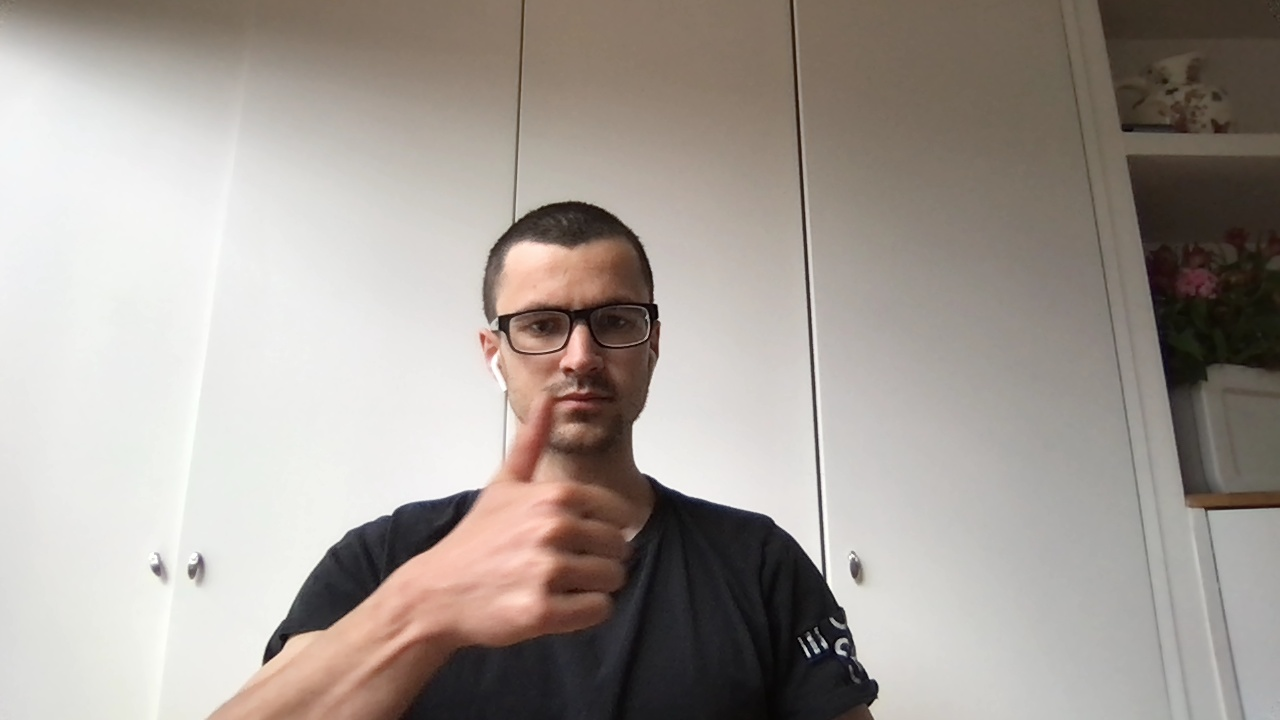thumbUp: (462, 390, 634, 648)
